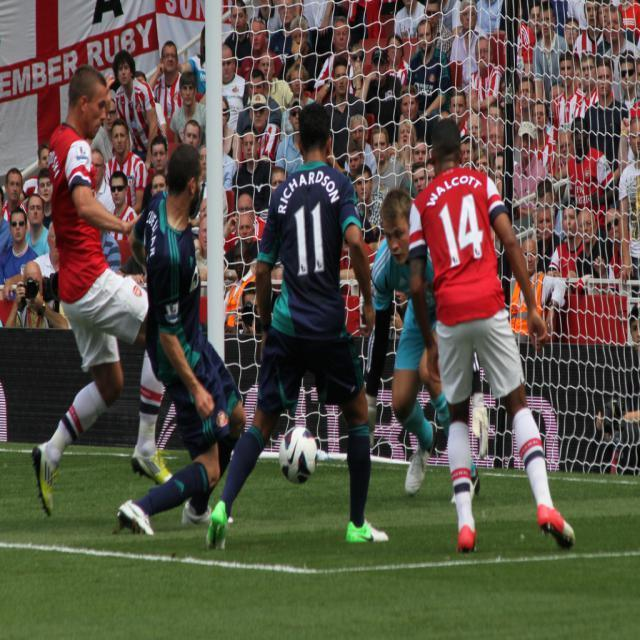football: (271, 421, 327, 484)
